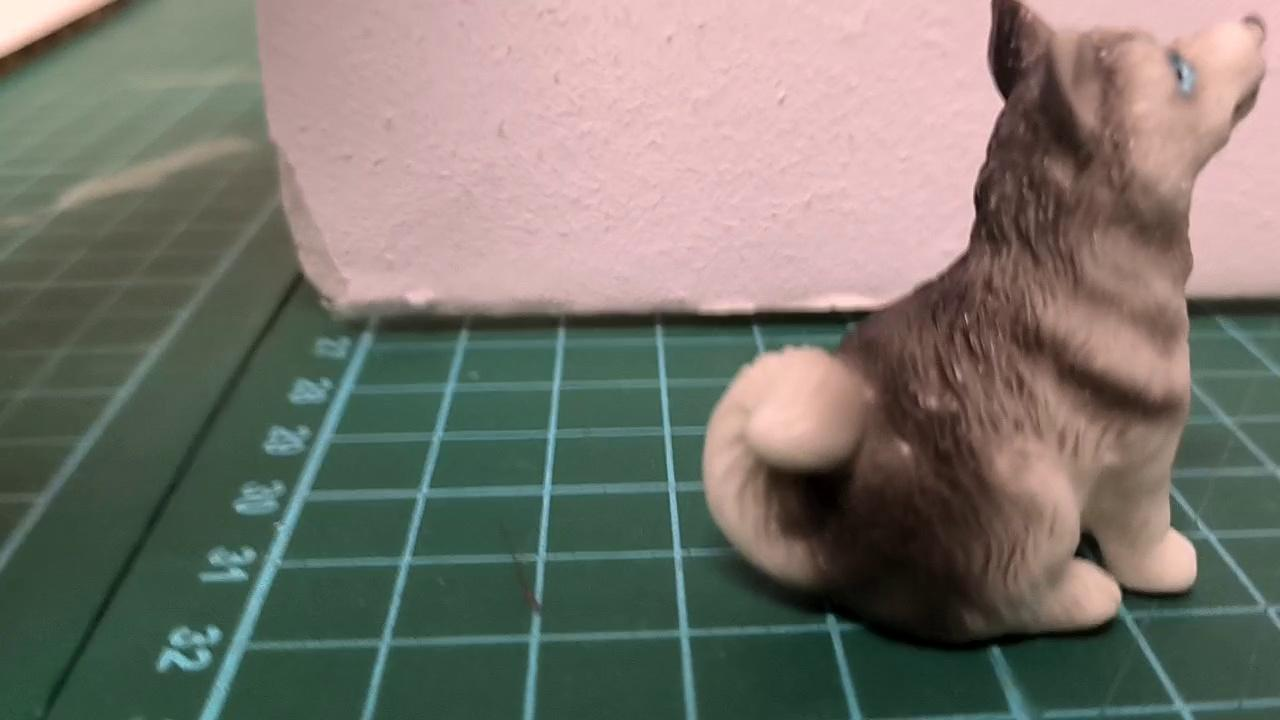pet: (702, 0, 1269, 646)
